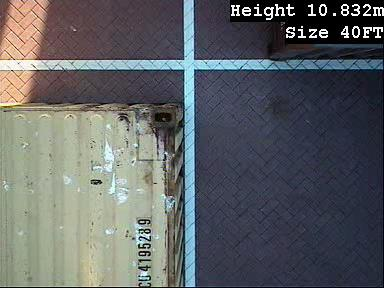groundmarker_2: (11, 1, 99, 126)
